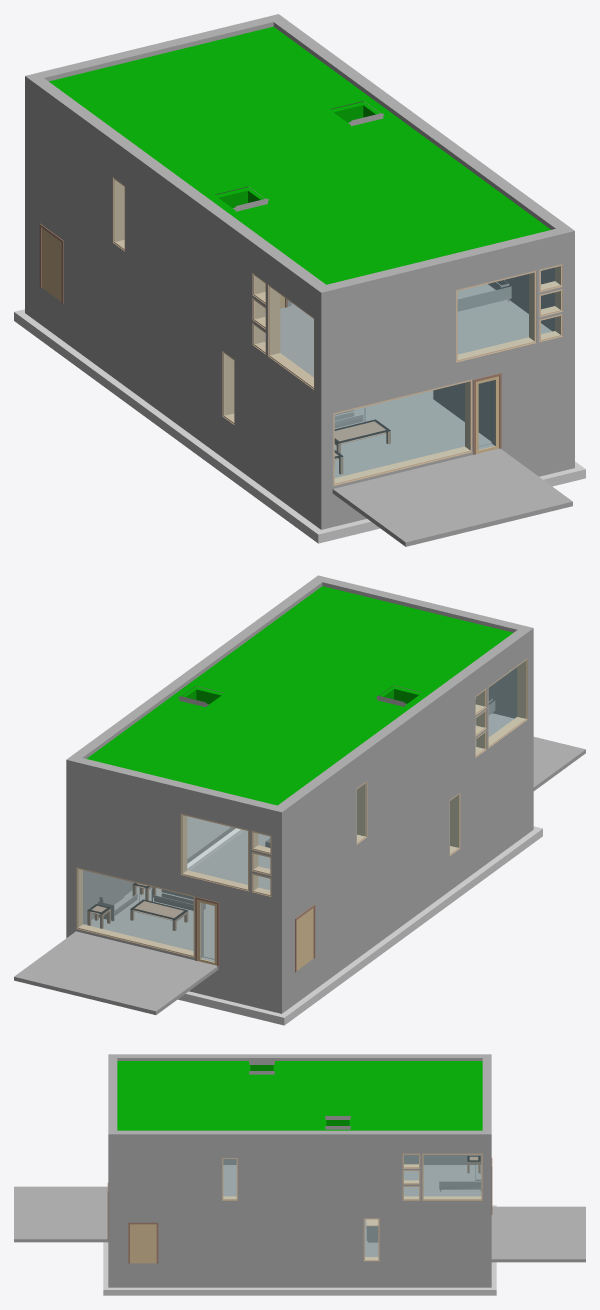
The model's file is Duplex_A_20110907.glb.
The picture shows the model from 3 angles, top to bottom: view 1: azimuth 30°, elevation 25°; view 2: azimuth 150°, elevation 25°; view 3: azimuth 270°, elevation 25°; orthographic projection. The views are drawn at different scales.
Parts seen in each view (by area): view 1: Basic Roof:Live Roof over Wood Joist Flat Roof:184483, Basic Wall:Exterior - Brick on Block:138310, Basic Wall:Exterior - Brick on Block:143590, Basic Wall:Exterior - Brick on Block:143534, Floor:150mm Exterior Slab on Grade:216552, Basic Wall:Exterior - Brick on Block:138237, Basic Wall:Foundation - Concrete (417mm):140602, Basic Wall:Exterior - Brick on Block:185101, Floor:Finish Floor - Wood:170352, Basic Wall:Exterior - Brick on Block:185064, Basic Wall:Exterior - Brick on Block:185014, Wall Foundation:Bearing Footing - 900 x 300:186612 (+17 smaller); view 2: Basic Roof:Live Roof over Wood Joist Flat Roof:184483, Basic Wall:Exterior - Brick on Block:138310, Basic Wall:Exterior - Brick on Block:143590, Basic Wall:Exterior - Brick on Block:143410, Floor:150mm Exterior Slab on Grade:216507, Basic Wall:Exterior - Brick on Block:138062, Basic Wall:Foundation - Concrete (417mm):140602, Basic Wall:Exterior - Brick on Block:185101, Basic Wall:Exterior - Brick on Block:184944, Wall Foundation:Bearing Footing - 900 x 300:186612, Basic Wall:Exterior - Brick on Block:185014, Floor:Finish Floor - Wood:171292 (+17 smaller); view 3: Basic Roof:Live Roof over Wood Joist Flat Roof:184483, Basic Wall:Exterior - Brick on Block:138157, Basic Wall:Exterior - Brick on Block:143478, Basic Wall:Foundation - Concrete (417mm):140520, Basic Wall:Exterior - Brick on Block:185014, Floor:150mm Exterior Slab on Grade:216507, Floor:150mm Exterior Slab on Grade:216552, Wall Foundation:Bearing Footing - 900 x 300:186596, Basic Wall:Exterior - Brick on Block:185101, Floor:Finish Floor - Wood:169188, M_Single-Flush:1250mm x 2010mm:1250mm x 2010mm:146596, Basic Wall:Exterior - Brick on Block:184944 (+6 smaller).
Boxes of the visible parts, box(x1,y1,x2,y2) form: Basic Roof:Live Roof over Wood Joist Flat Roof:184483: box(49, 26, 550, 284); Basic Wall:Exterior - Brick on Block:138310: box(32, 187, 314, 486); Basic Wall:Exterior - Brick on Block:143590: box(25, 94, 321, 398); Basic Wall:Exterior - Brick on Block:143534: box(321, 249, 574, 398); Floor:150mm Exterior Slab on Grade:216552: box(332, 448, 572, 546); Basic Wall:Exterior - Brick on Block:138237: box(314, 340, 562, 491); Basic Wall:Foundation - Concrete (417mm):140602: box(32, 281, 314, 524); Basic Wall:Exterior - Brick on Block:185101: box(32, 78, 325, 305); Floor:Finish Floor - Wood:170352: box(334, 390, 491, 477); Basic Wall:Exterior - Brick on Block:185064: box(314, 229, 562, 310); Basic Wall:Exterior - Brick on Block:185014: box(273, 19, 574, 251); Wall Foundation:Bearing Footing - 900 x 300:186612: box(14, 309, 309, 532); Basic Roof:Live Roof over Wood Joist Flat Roof:184483: box(86, 586, 513, 805); Basic Wall:Exterior - Brick on Block:138310: box(287, 722, 527, 977); Basic Wall:Exterior - Brick on Block:143590: box(282, 644, 533, 901); Basic Wall:Exterior - Brick on Block:143410: box(66, 775, 281, 902); Floor:150mm Exterior Slab on Grade:216507: box(14, 931, 218, 1014); Basic Wall:Exterior - Brick on Block:138062: box(66, 850, 287, 981); Basic Wall:Foundation - Concrete (417mm):140602: box(287, 802, 527, 1009); Basic Wall:Exterior - Brick on Block:185101: box(278, 630, 527, 823); Basic Wall:Exterior - Brick on Block:184944: box(66, 755, 287, 827); Wall Foundation:Bearing Footing - 900 x 300:186612: box(262, 836, 530, 1025); Basic Wall:Exterior - Brick on Block:185014: box(72, 575, 327, 758); Floor:Finish Floor - Wood:171292: box(85, 887, 214, 959); Basic Roof:Live Roof over Wood Joist Flat Roof:184483: box(117, 1061, 482, 1130); Basic Wall:Exterior - Brick on Block:138157: box(108, 1202, 482, 1263); Basic Wall:Exterior - Brick on Block:143478: box(108, 1146, 491, 1202); Basic Wall:Foundation - Concrete (417mm):140520: box(108, 1263, 482, 1287); Basic Wall:Exterior - Brick on Block:185014: box(108, 1130, 482, 1146); Floor:150mm Exterior Slab on Grade:216507: box(491, 1206, 585, 1262); Floor:150mm Exterior Slab on Grade:216552: box(14, 1186, 108, 1242); Wall Foundation:Bearing Footing - 900 x 300:186596: box(103, 1281, 496, 1295); Basic Wall:Exterior - Brick on Block:185101: box(117, 1054, 482, 1060); Floor:Finish Floor - Wood:169188: box(404, 1165, 481, 1196); M_Single-Flush:1250mm x 2010mm:1250mm x 2010mm:146596: box(128, 1222, 158, 1263); Basic Wall:Exterior - Brick on Block:184944: box(482, 1054, 491, 1146).
Bounding box in the file's own units: 9.28 × 8.18 × 26.57.
